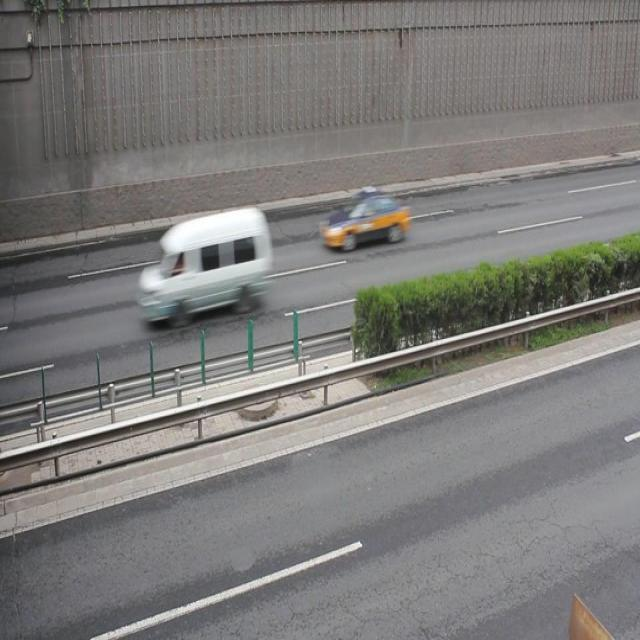car: (320, 191, 410, 250)
truck: (136, 208, 270, 321)
